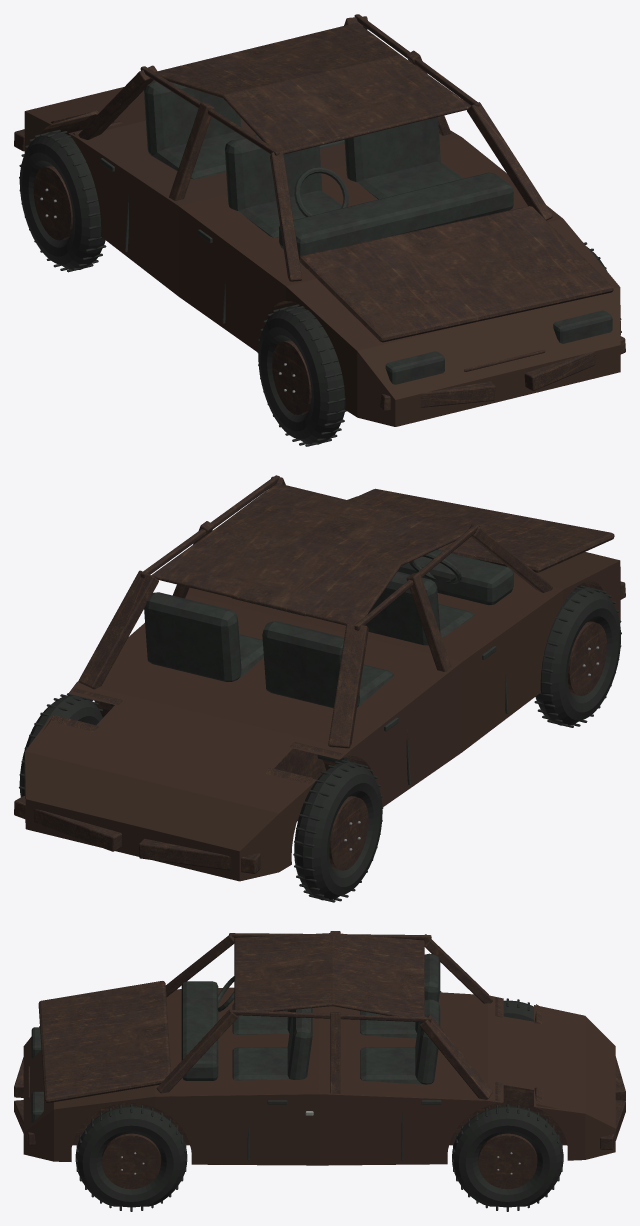
The model's file is f3_v3_derelict_car.glb.
3 views of the same model, one above another, from view 1: azimuth 30°, elevation 25°; view 2: azimuth 150°, elevation 25°; view 3: azimuth 270°, elevation 25° (orthographic). The views are drawn at different scales.
Parts seen in each view (by area): view 1: faded oxidized sedan paint with scanned rust PBR_surface, f3_deep_crack_surface, aged split tire rubber_surface, f3_oxidized_iron_surface; view 2: faded oxidized sedan paint with scanned rust PBR_surface, f3_deep_crack_surface, aged split tire rubber_surface, f3_oxidized_iron_surface; view 3: faded oxidized sedan paint with scanned rust PBR_surface, f3_deep_crack_surface, aged split tire rubber_surface, f3_oxidized_iron_surface.
Part boxes in pixels (<box>): faded oxidized sedan paint with scanned rust PBR_surface: <box>24,16,620,426</box>; f3_deep_crack_surface: <box>100,80,612,384</box>; aged split tire rubber_surface: <box>19,129,621,446</box>; f3_oxidized_iron_surface: <box>14,14,625,414</box>; faded oxidized sedan paint with scanned rust PBR_surface: <box>24,476,620,881</box>; f3_deep_crack_surface: <box>111,549,513,784</box>; aged split tire rubber_surface: <box>19,585,621,902</box>; f3_oxidized_iron_surface: <box>14,475,625,873</box>; faded oxidized sedan paint with scanned rust PBR_surface: <box>23,931,615,1165</box>; f3_deep_crack_surface: <box>31,953,441,1160</box>; aged split tire rubber_surface: <box>75,998,563,1211</box>; f3_oxidized_iron_surface: <box>14,933,625,1189</box>.
Size of the model in its own units: 2.12 by 1.58 by 4.65.
6 materials, 5 textured.
